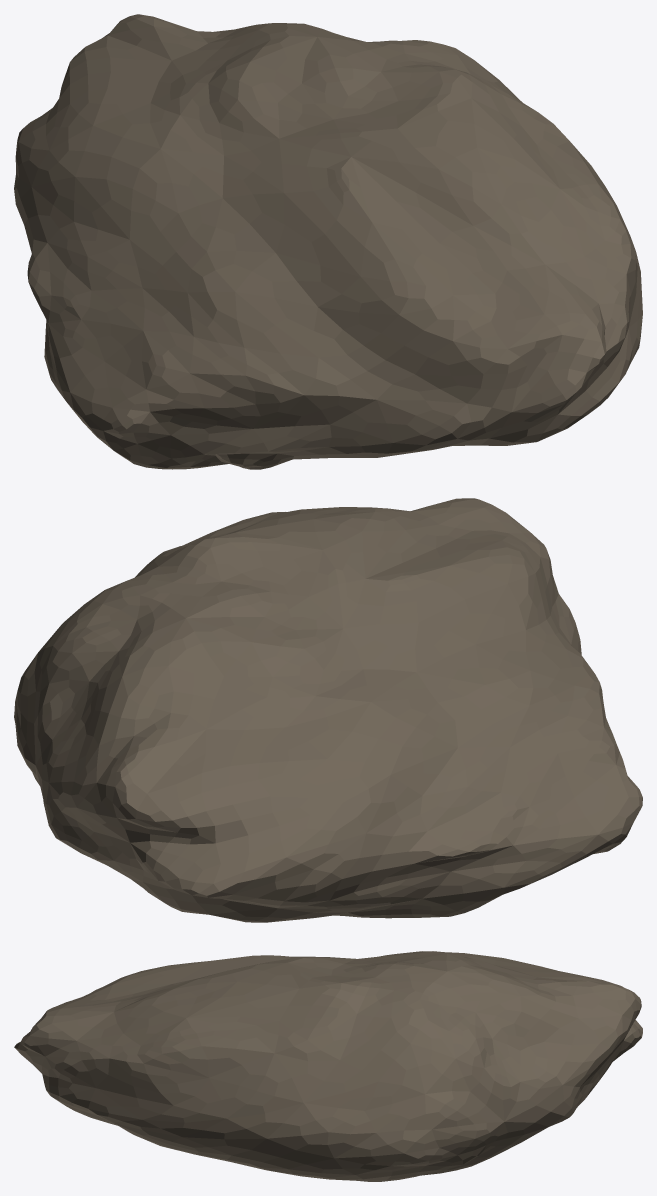
Rendered from rock_4.fbx.
The picture shows the model from 3 angles, top to bottom: view 1: azimuth 30°, elevation 25°; view 2: azimuth 150°, elevation 25°; view 3: azimuth 270°, elevation 25°; orthographic projection. The views are drawn at different scales.
Visible parts, largest first — view 1: rock 4; view 2: rock 4; view 3: rock 4.
Part boxes in pixels (left/top/right/bottom): rock 4: left=14, top=14, right=642, bottom=469; rock 4: left=14, top=498, right=642, bottom=922; rock 4: left=14, top=951, right=642, bottom=1181.
Size of the model in its own units: 639 by 317 by 886.
